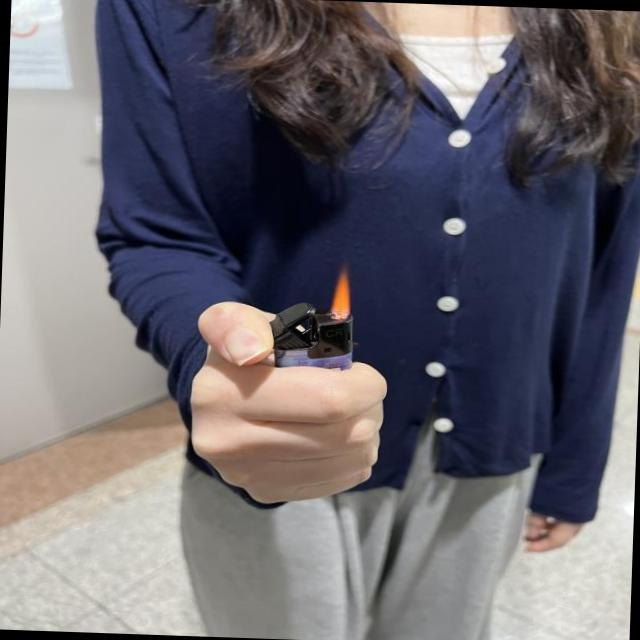Fire: (332, 260, 354, 322)
